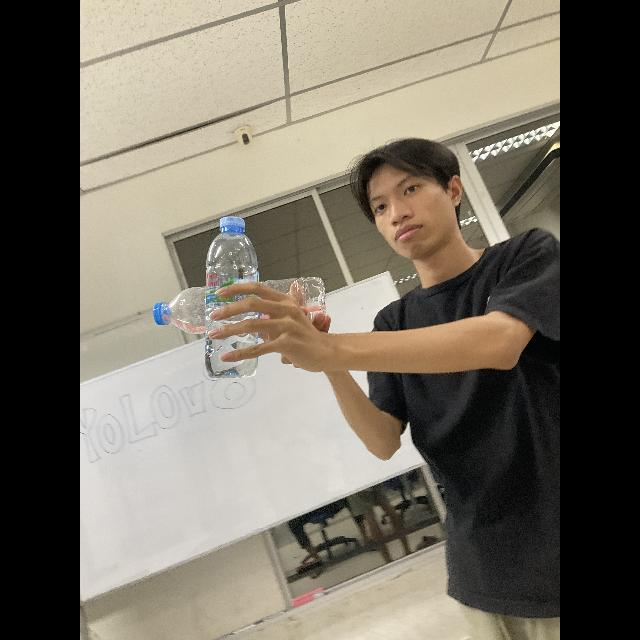plastic_bottle: (155, 276, 327, 336), (202, 216, 262, 380)
plastic_bottle_cap: (219, 216, 249, 238), (154, 301, 172, 325)
